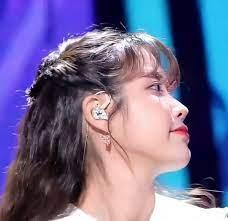earphone: (89, 104, 110, 121)
